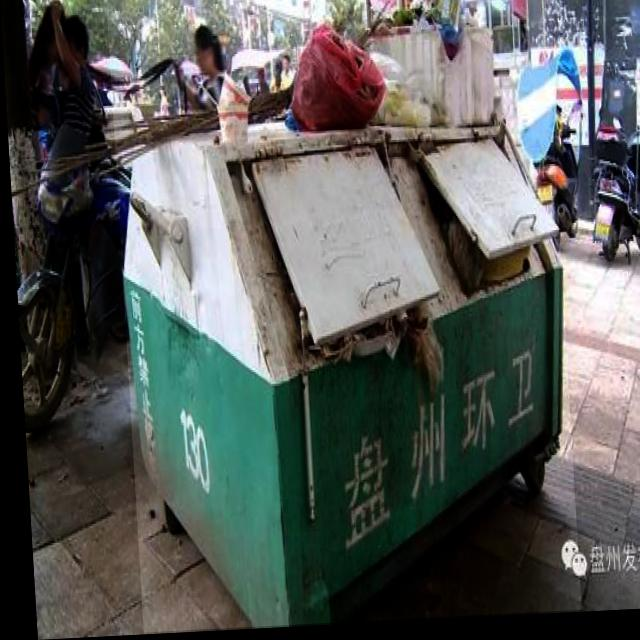overflow: (106, 0, 574, 634)
